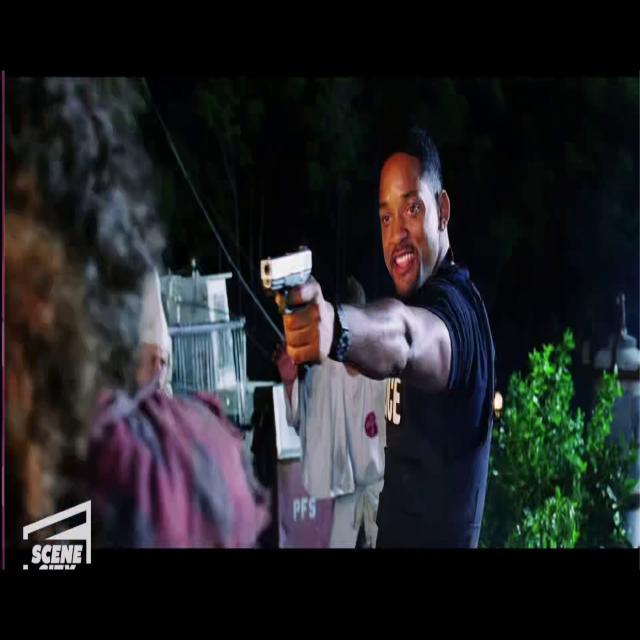weapons: (256, 222, 324, 356)
